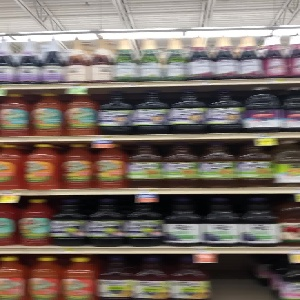void: (217, 252, 274, 300)
